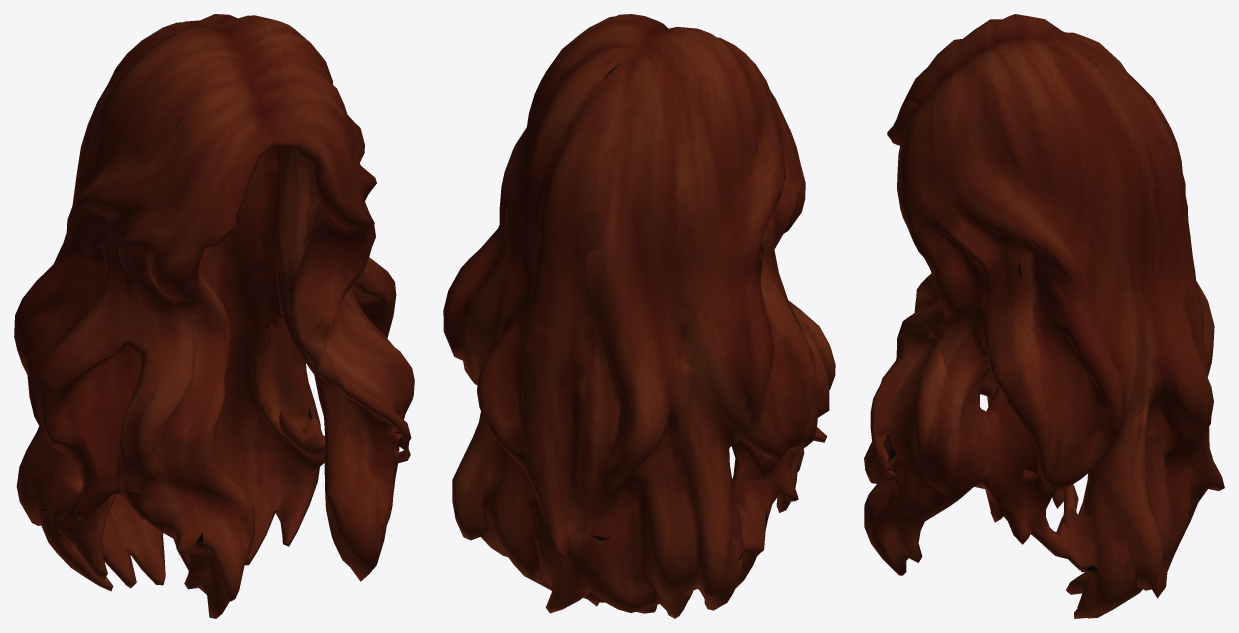
Rendered from maren-hair-v1.glb.
3 renders of one model, left to right at view 1: azimuth 30°, elevation 25°; view 2: azimuth 150°, elevation 25°; view 3: azimuth 270°, elevation 25°, orthographic. The views are drawn at different scales.
Visible parts, largest first — view 1: maren-hair-m0-8k; view 2: maren-hair-m0-8k; view 3: maren-hair-m0-8k.
Part boxes in pixels (left/top/right/bottom): maren-hair-m0-8k: left=14, top=14, right=414, bottom=618; maren-hair-m0-8k: left=443, top=14, right=835, bottom=618; maren-hair-m0-8k: left=864, top=14, right=1224, bottom=618.
Bounding box in the file's own units: 0.6328 × 0.9881 × 0.5711.
Materials: 1 (1 with a texture image).
